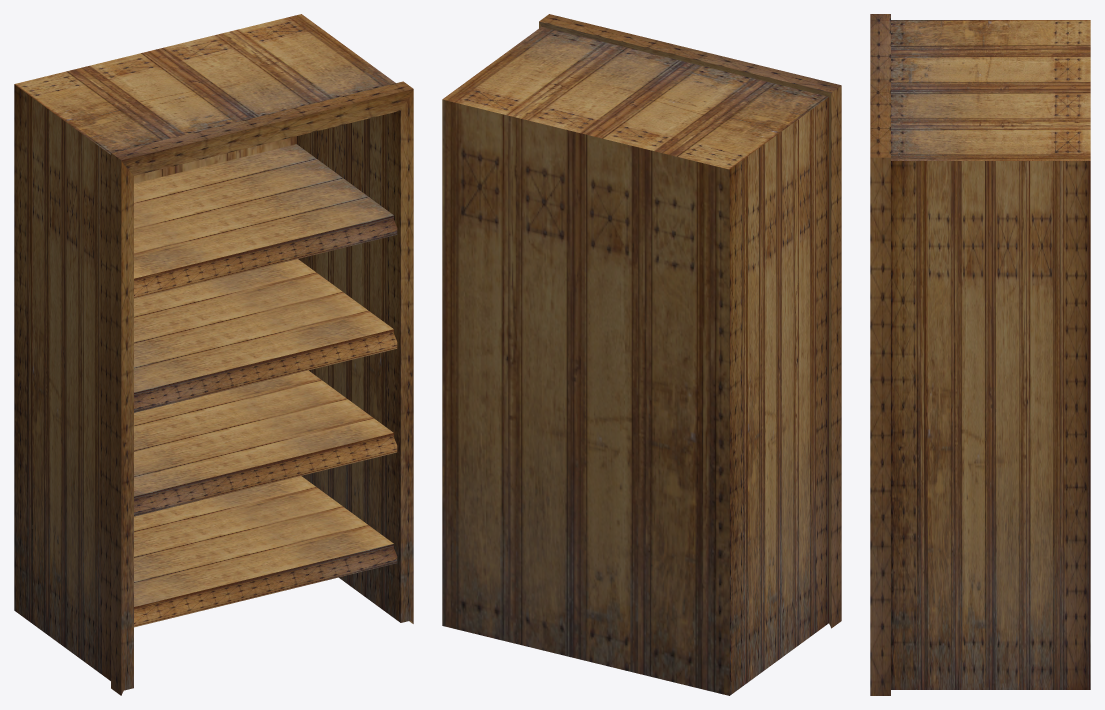
Rendered from Shelves.dae.
3 renders of one model, left to right at view 1: azimuth 30°, elevation 25°; view 2: azimuth 150°, elevation 25°; view 3: azimuth 270°, elevation 25°, orthographic.
Visible parts, largest first — view 1: meshU3D; view 2: meshU3D; view 3: meshU3D.
Boxes of the visible parts, x1,y1,x2,y2 form: meshU3D: (14, 14, 413, 695); meshU3D: (442, 14, 841, 695); meshU3D: (870, 14, 1090, 695).
Size of the model in its own units: 37.23 by 65.14 by 24.17.
